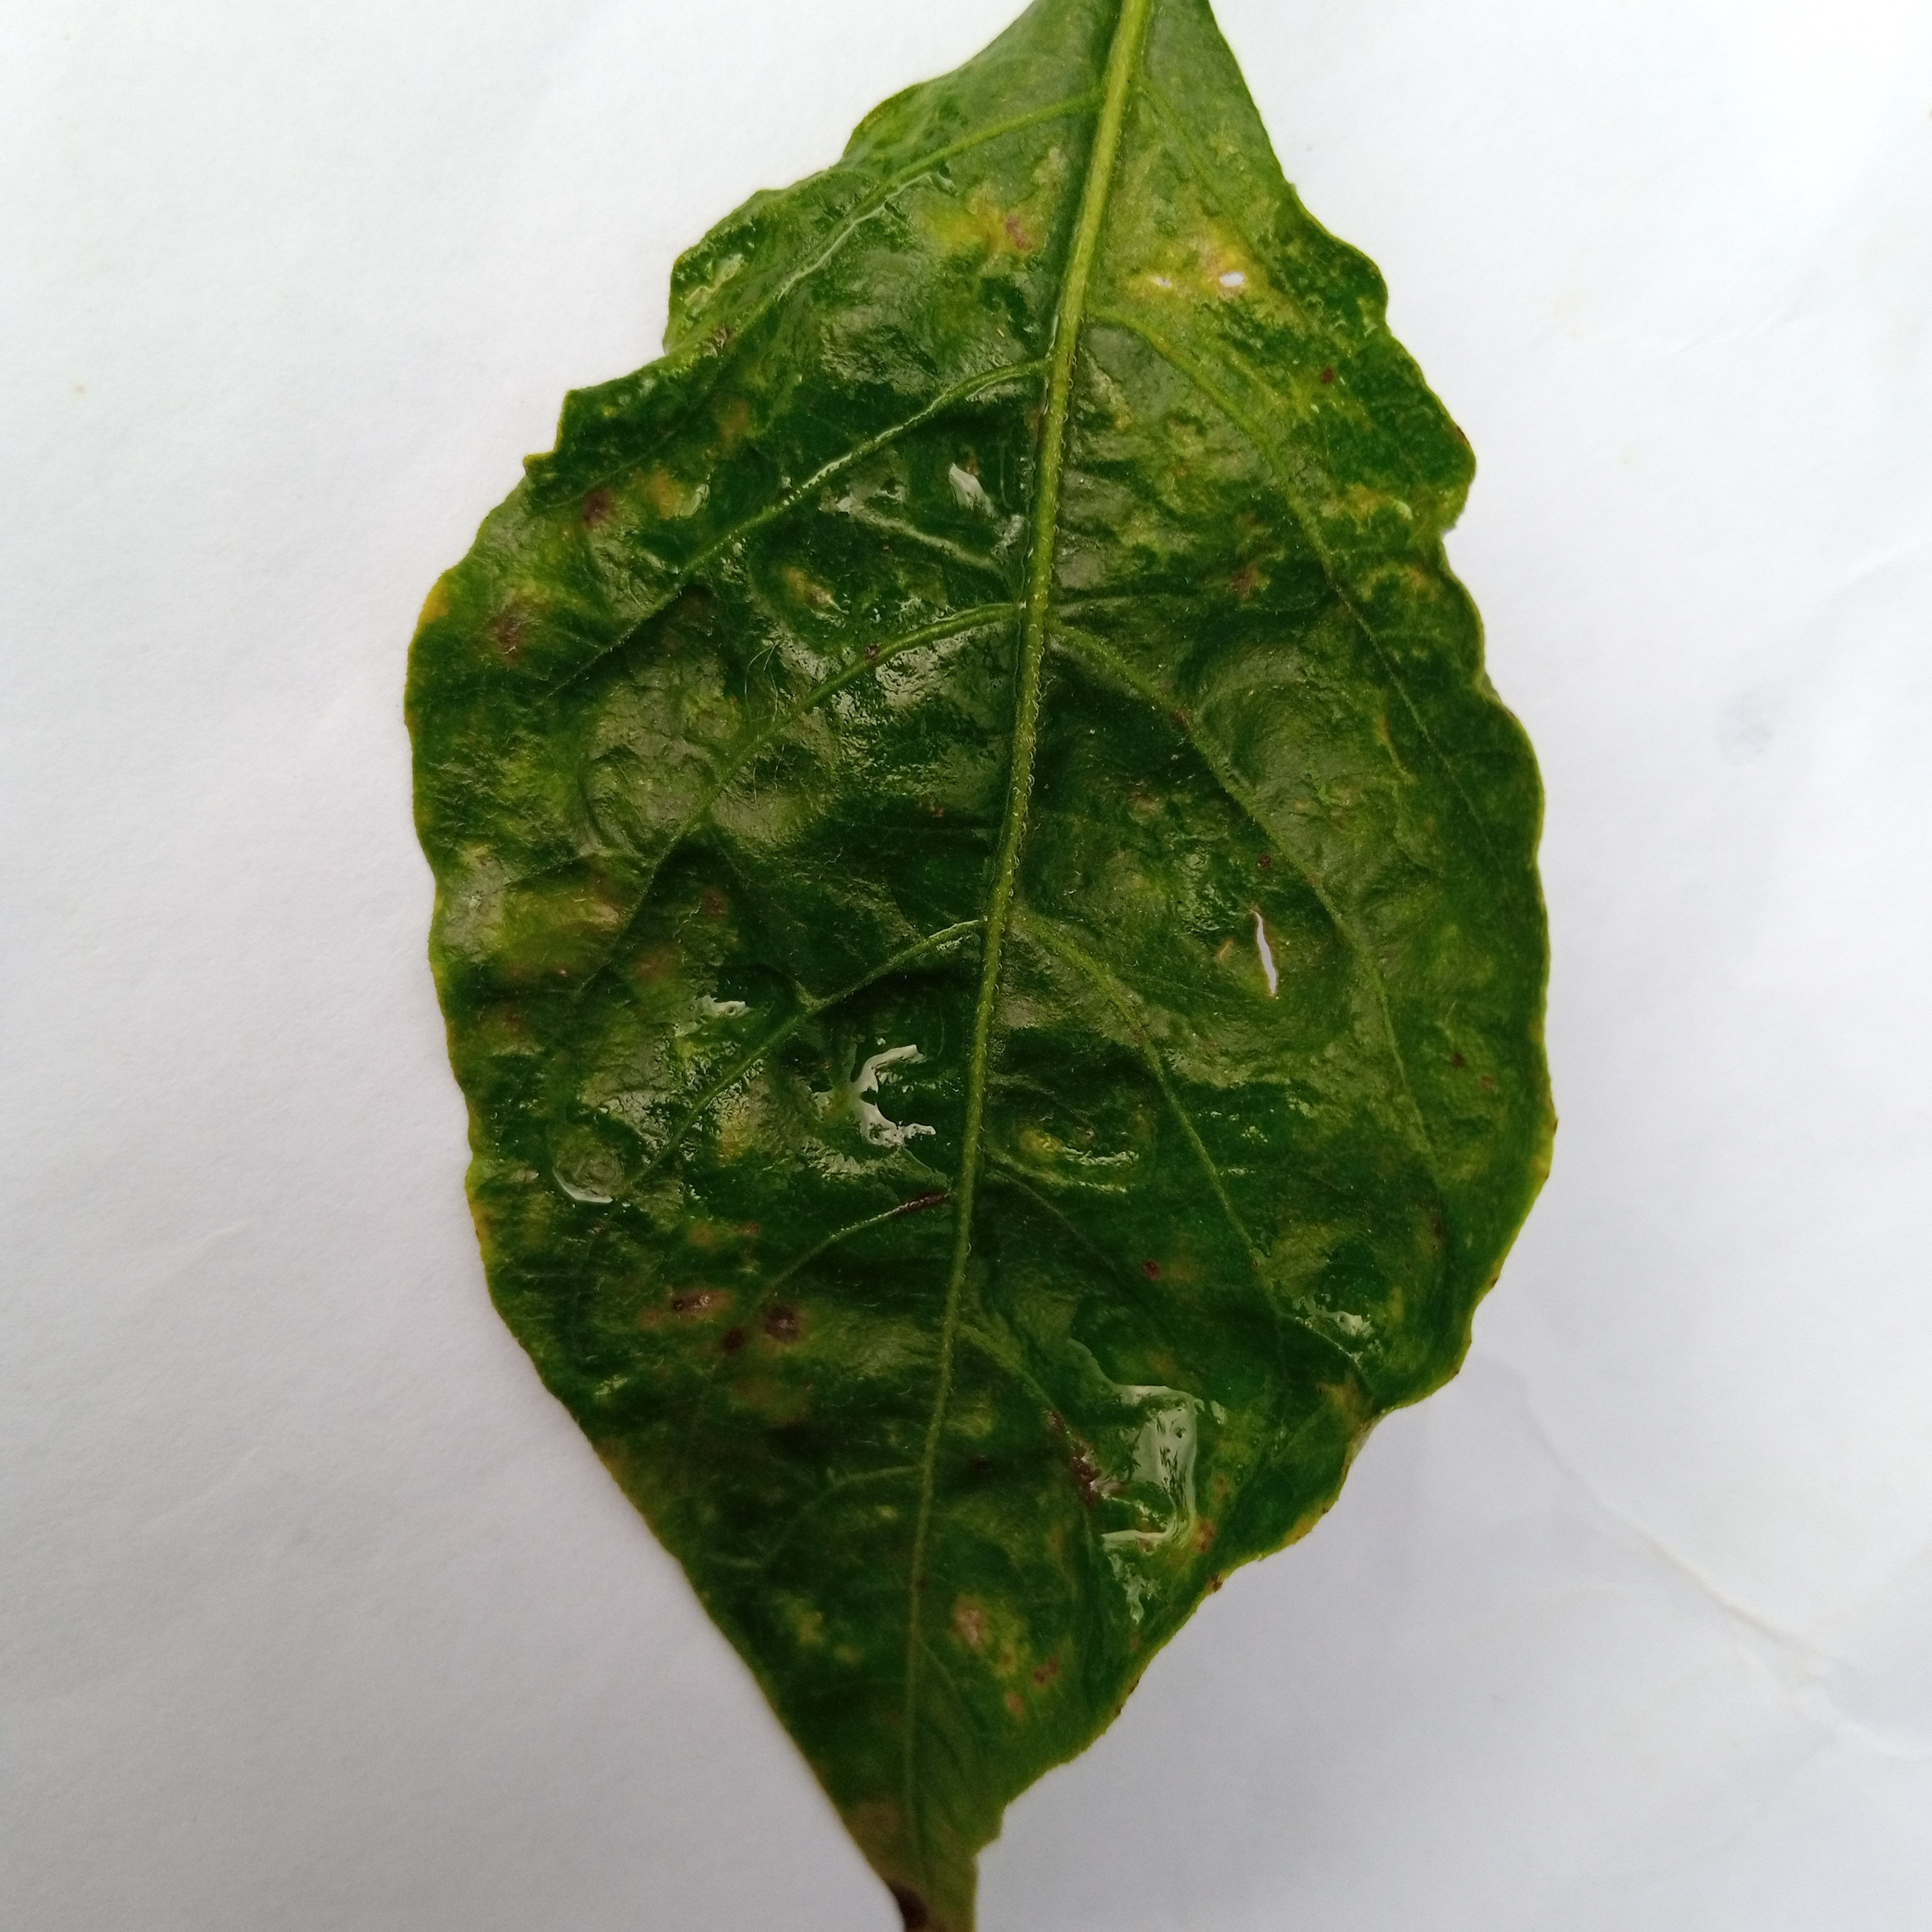Leaf: (340, 18, 1619, 1932)
